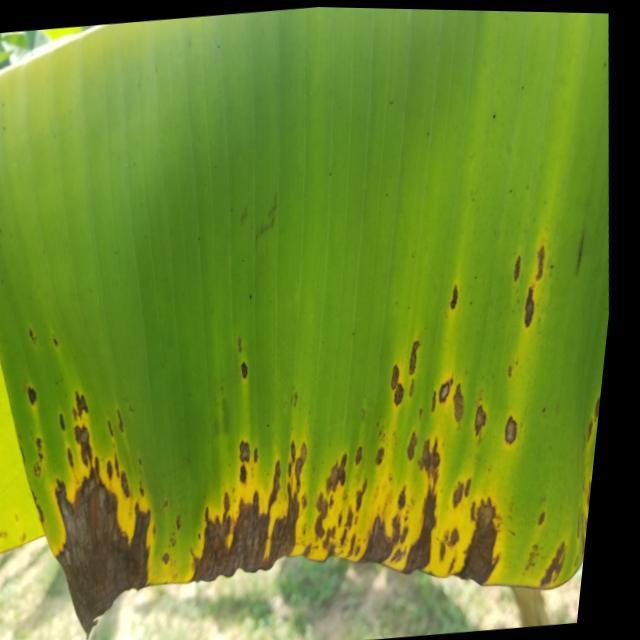Early_rust: (0, 173, 640, 627)
